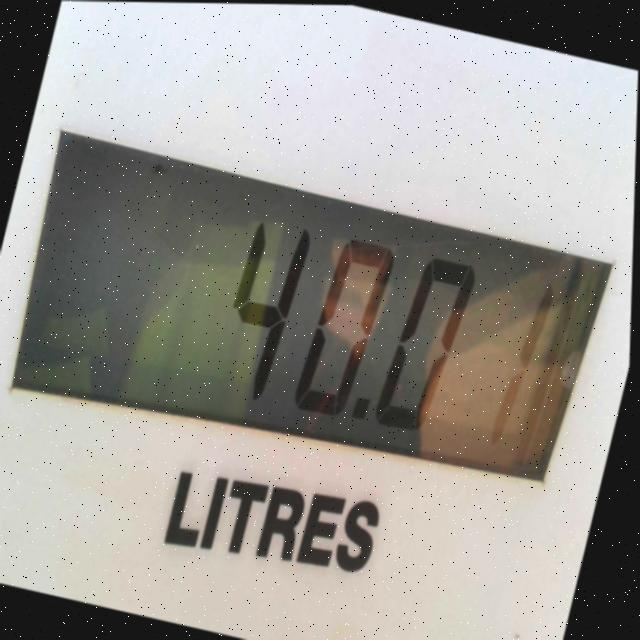.: (344, 380, 388, 433)
0: (361, 242, 486, 463), (286, 220, 399, 428)
1: (462, 257, 575, 469)
4: (188, 194, 324, 425)
